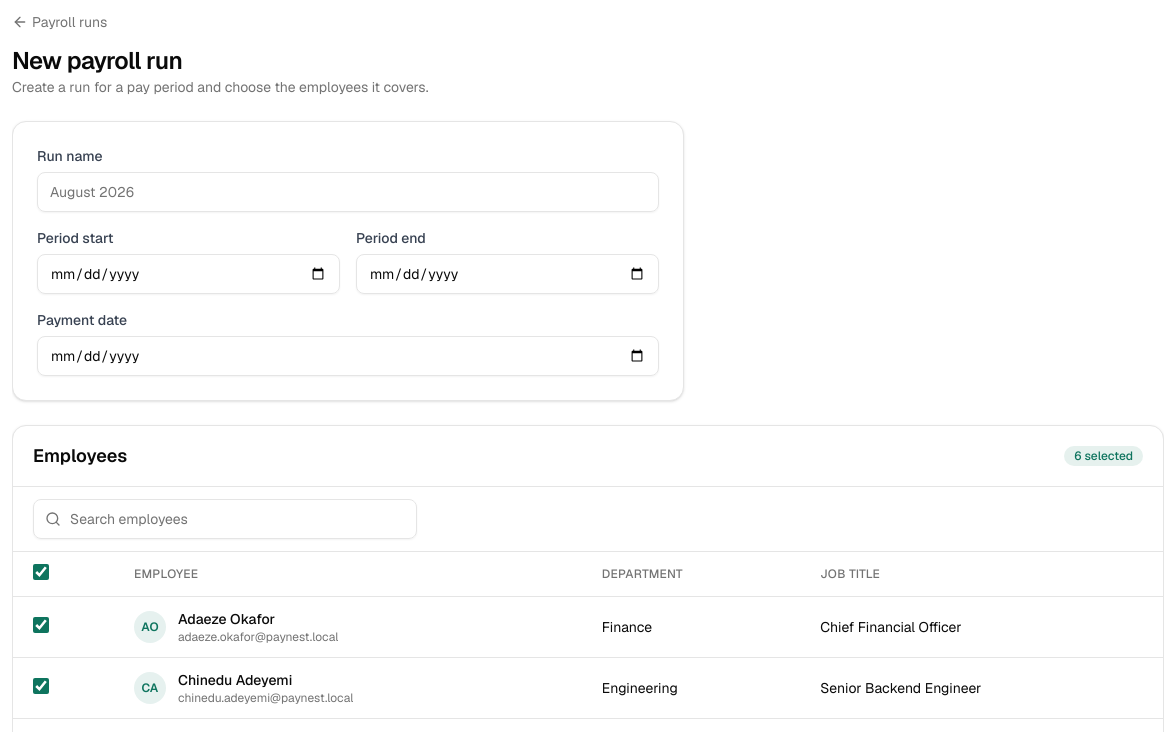
Test: new payroll run › filters the picker by search
Type "Fatima" into the search field named "Search run employees" at point(225, 519), box [33, 499, 417, 539]
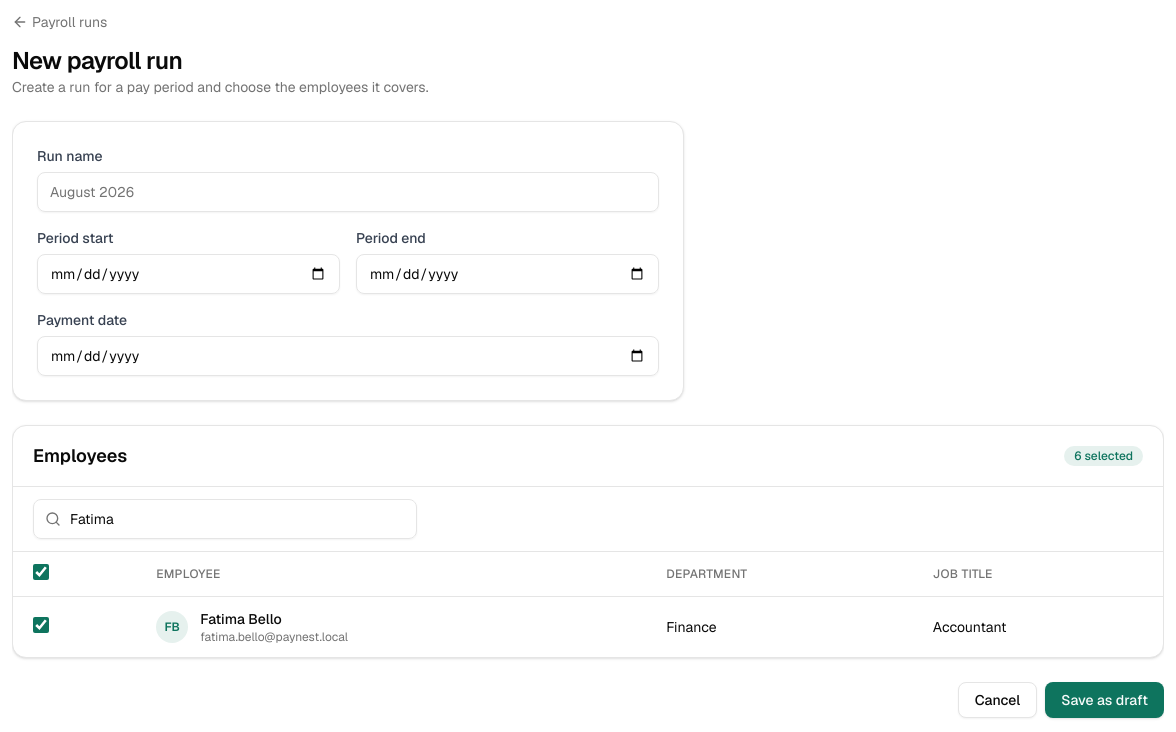
Expected: the text "Fatima Bello" is shown, [200, 610, 282, 628]
Result: the text "Adaeze Okafor" is gone
